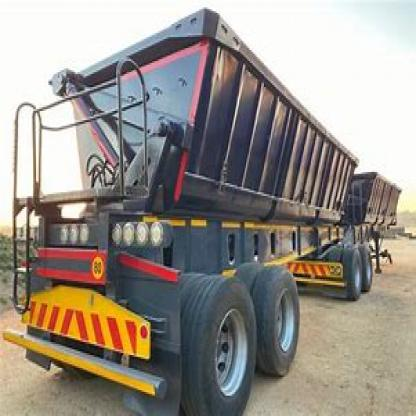dump_truck: (19, 9, 401, 405)
